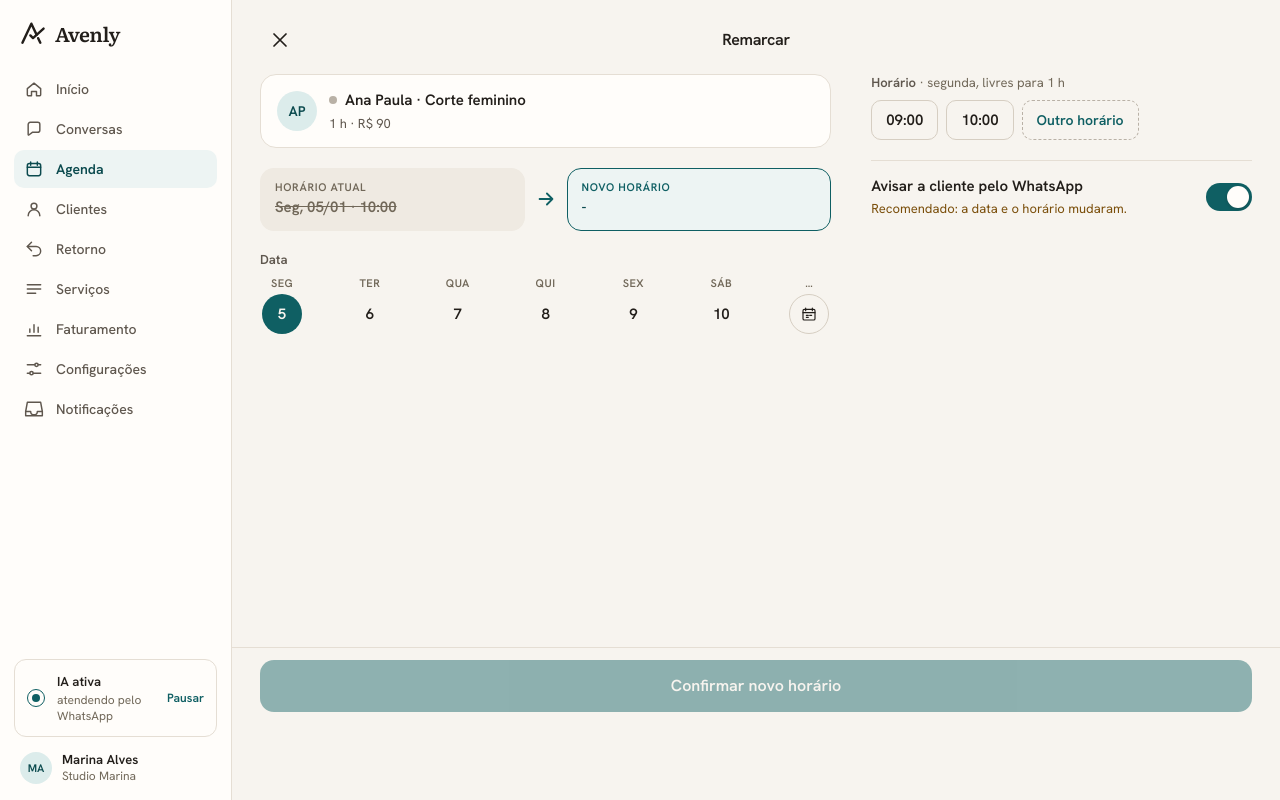
Test: Goal112 A9 (remarcar): o campo é o mesmo nó ao cruzar 1024 px › 390→1280: mesmo nó, mesmo valor e com foco
Click the button "Outro horário" at (1080, 120), box x1=1022 y1=100 x2=1139 y2=140
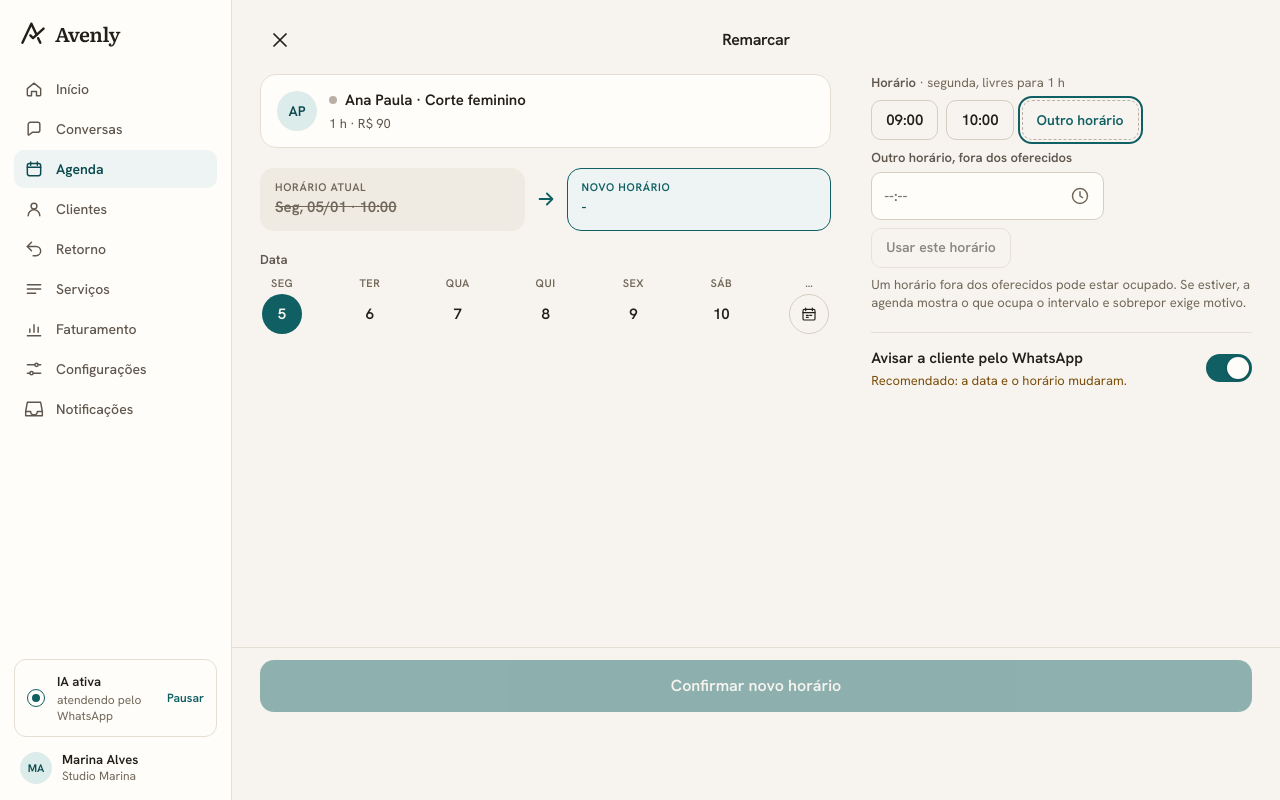
Type "14:30" into the field labelled "Outro horário, fora dos oferecidos" at (988, 196), box x1=871 y1=172 x2=1104 y2=220
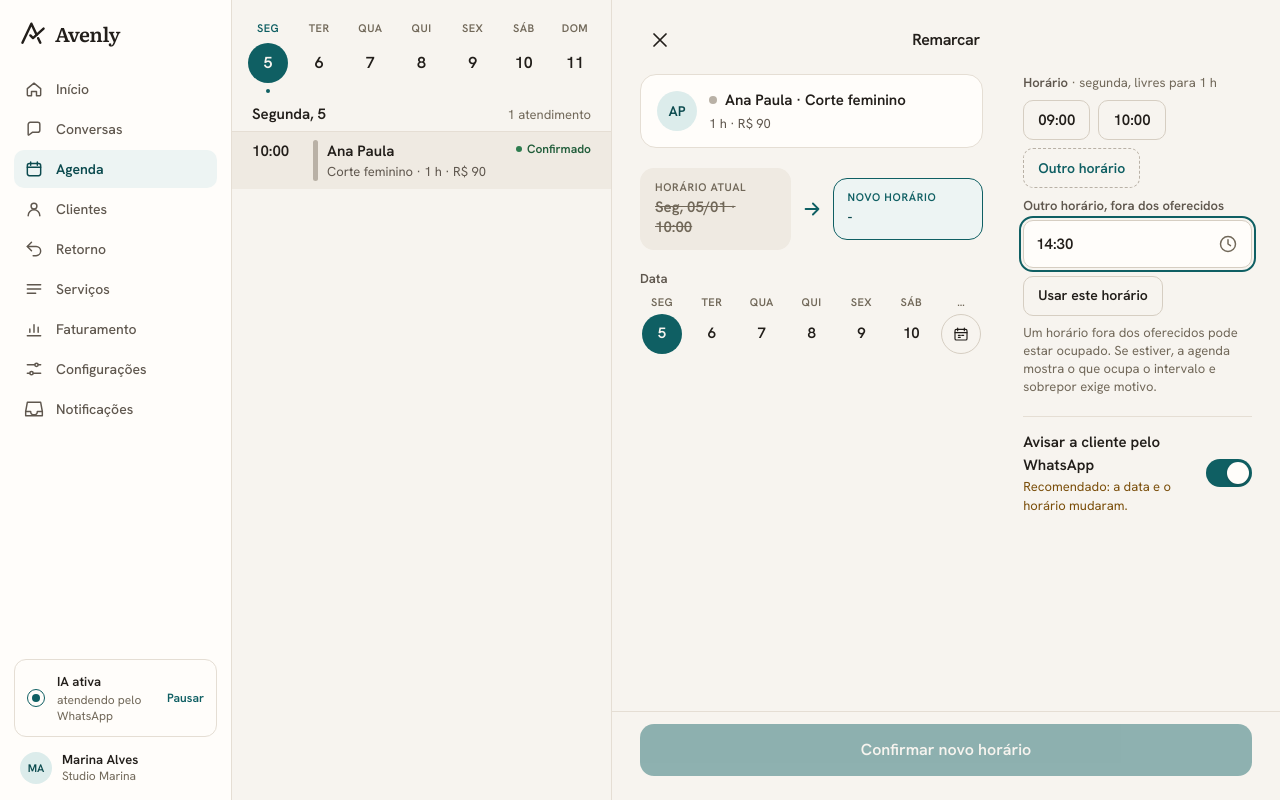
Expected: the element with class "agenda-appt-split" is shown
Expected: the element with class "list-detail-list" is shown, x1=232 y1=0 x2=612 y2=799
